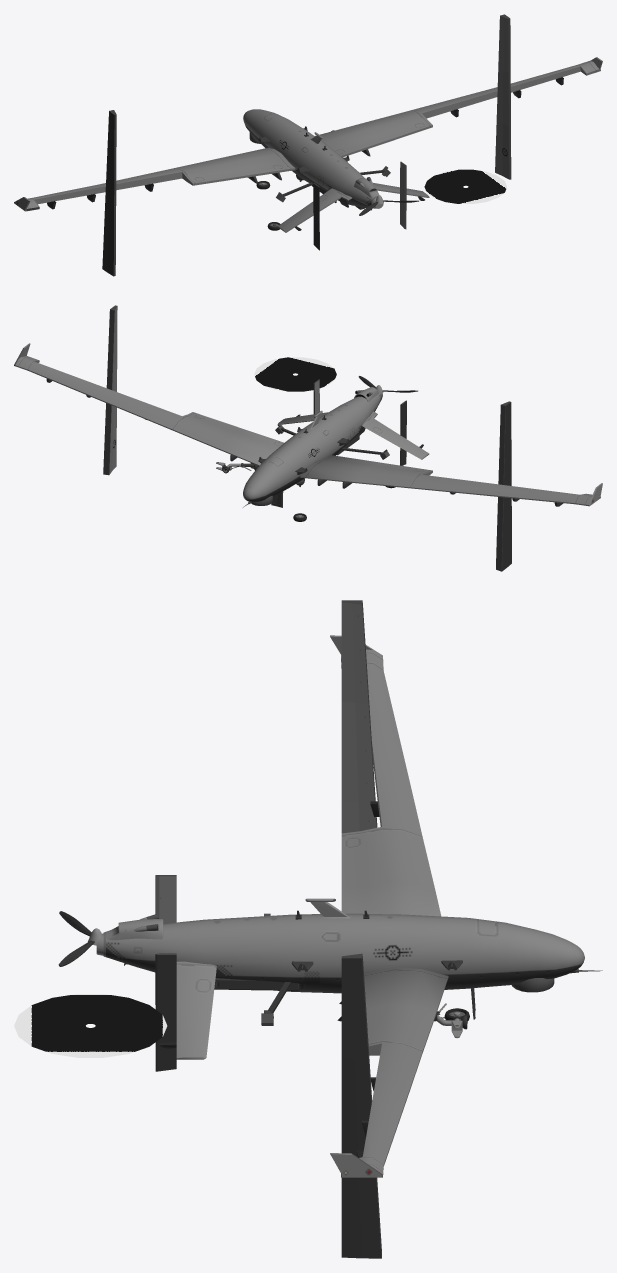
File: small_plane.fbx
The picture shows the model from 3 angles, top to bottom: view 1: azimuth 30°, elevation 25°; view 2: azimuth 150°, elevation 25°; view 3: azimuth 270°, elevation 25°; orthographic projection. The views are drawn at different scales.
Parts seen in each view (by area): view 1: smallplane_base, smallplane_propellerplane_midspin, smallplane_wingflap_right, smallplane_wingflap_left, smallplane_wingflapback_right, smallplane_wingflapback_left; view 2: smallplane_base, smallplane_propellerplane_midspin, smallplane_wingflap_left, smallplane_wingflap_right; view 3: smallplane_base, smallplane_wingflap_right, smallplane_propellerplane_midspin, smallplane_wingflap_left, smallplane_wingflapback_right, smallplane_wingflapback_left.
Boxes of the visible parts, left/top/right/bottom form: smallplane_base: left=14, top=57, right=602, bottom=232; smallplane_propellerplane_midspin: left=424, top=169, right=506, bottom=203; smallplane_wingflap_right: left=495, top=14, right=511, bottom=179; smallplane_wingflap_left: left=102, top=110, right=116, bottom=276; smallplane_wingflapback_right: left=400, top=161, right=406, bottom=229; smallplane_wingflapback_left: left=313, top=183, right=319, bottom=250; smallplane_base: left=14, top=343, right=602, bottom=507; smallplane_propellerplane_midspin: left=254, top=357, right=336, bottom=391; smallplane_wingflap_left: left=496, top=401, right=511, bottom=571; smallplane_wingflap_right: left=103, top=305, right=117, bottom=475; smallplane_base: left=96, top=635, right=602, bottom=1177; smallplane_wingflap_right: left=341, top=953, right=381, bottom=1258; smallplane_propellerplane_midspin: left=14, top=994, right=167, bottom=1057; smallplane_wingflap_left: left=341, top=600, right=377, bottom=833; smallplane_wingflapback_right: left=155, top=953, right=176, bottom=1071; smallplane_wingflapback_left: left=155, top=875, right=176, bottom=923.
Size of the model in its own units: 2080 by 557 by 995.
Materials: 3 (3 with a texture image).
